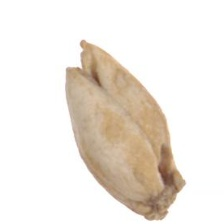L1: (150, 172, 187, 222), (65, 38, 101, 85)
L2: (65, 40, 186, 222)
